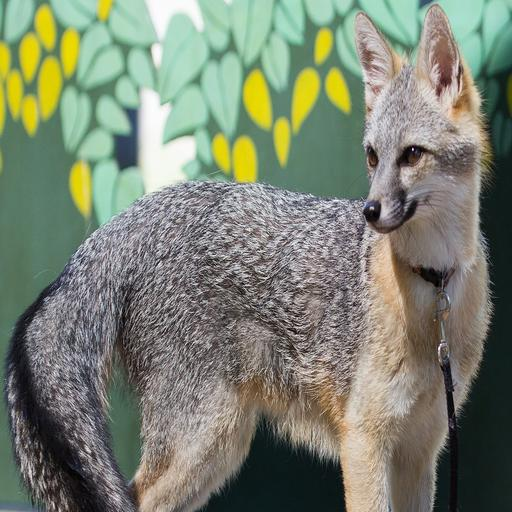Fox: (0, 1, 507, 512)
